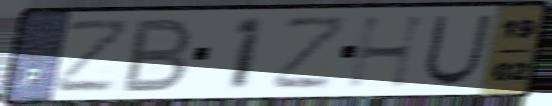1: (230, 14, 265, 93)
B: (117, 15, 197, 95)
H: (343, 12, 435, 91)
U: (419, 13, 496, 89)
Z: (269, 13, 352, 93), (52, 16, 135, 96)
